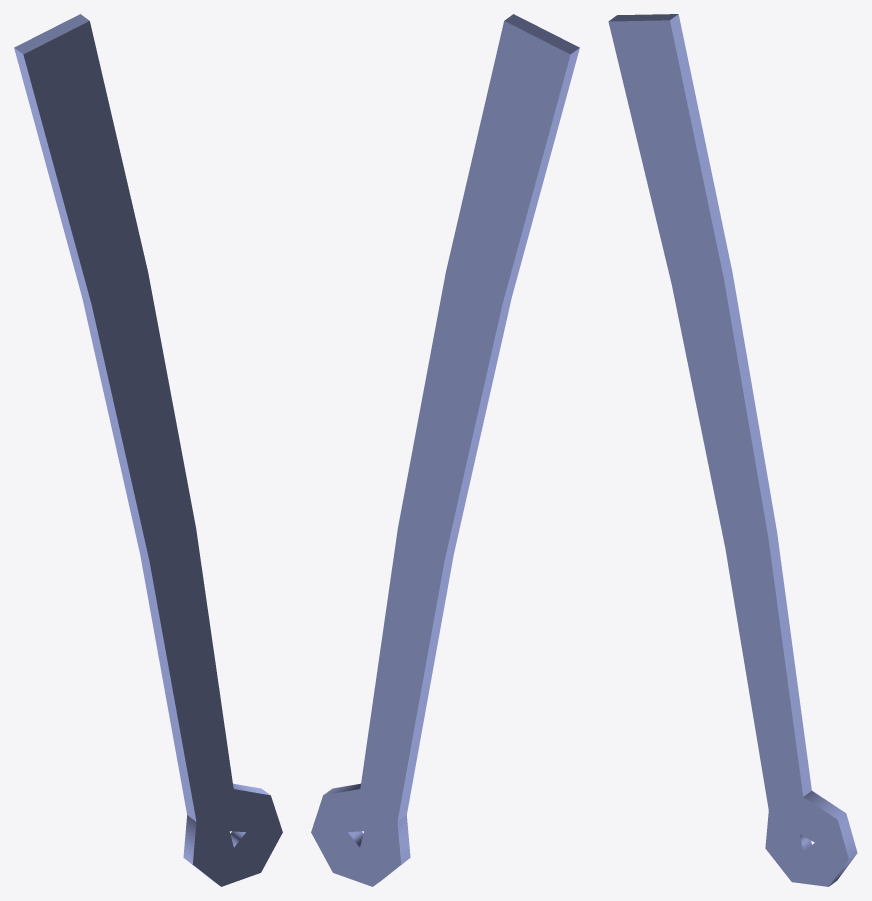
The model's file is Copie de Piece millieux^Copie de Assemblage plan_Horloge Comtoise Verge - Sonnerie.obj.
3 renders of one model, left to right at view 1: azimuth 30°, elevation 25°; view 2: azimuth 150°, elevation 25°; view 3: azimuth 330°, elevation 25°, orthographic. The views are drawn at different scales.
Parts seen in each view (by area): view 1: Face_7, Face_3, Face_2, Face_4; view 2: Face_1, Face_3, Face_2, Face_4; view 3: Face_7, Face_5, Face_4.
Boxes of the visible parts, <box> form: Face_7: <box>23,21,282,886</box>; Face_3: <box>14,48,196,821</box>; Face_2: <box>14,14,89,54</box>; Face_4: <box>183,783,270,883</box>; Face_1: <box>311,21,570,886</box>; Face_3: <box>397,48,579,821</box>; Face_2: <box>504,14,579,54</box>; Face_4: <box>323,783,410,883</box>; Face_7: <box>608,20,848,886</box>; Face_5: <box>670,14,811,796</box>; Face_4: <box>803,791,857,886</box>.
Size of the model in its own units: 0.0208 by 0.0689 by 0.0013.
